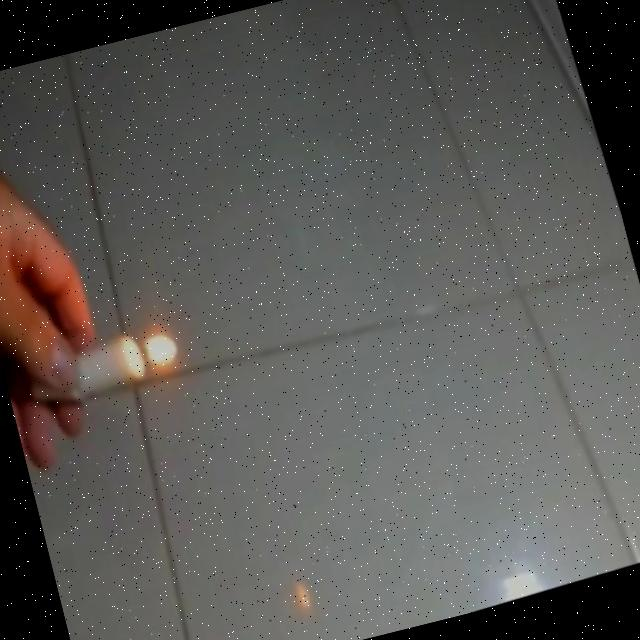fire: (135, 322, 185, 377)
